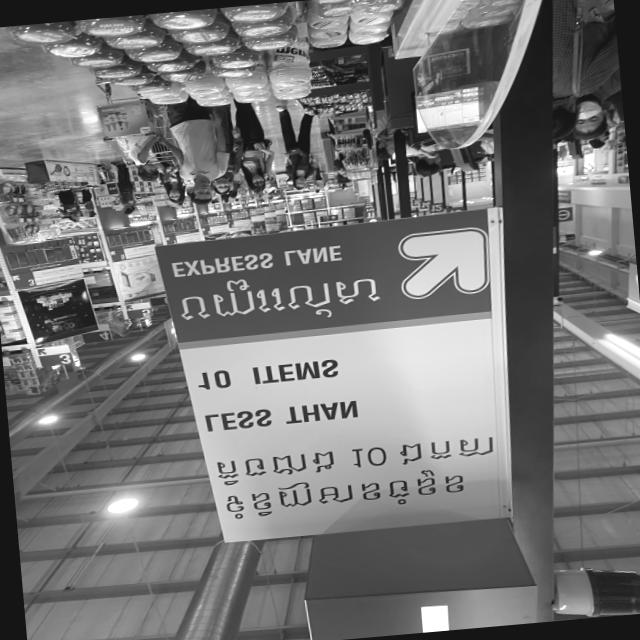Yolov11kh: (218, 461, 471, 526), (175, 263, 386, 337), (205, 445, 346, 487), (389, 429, 501, 468)
